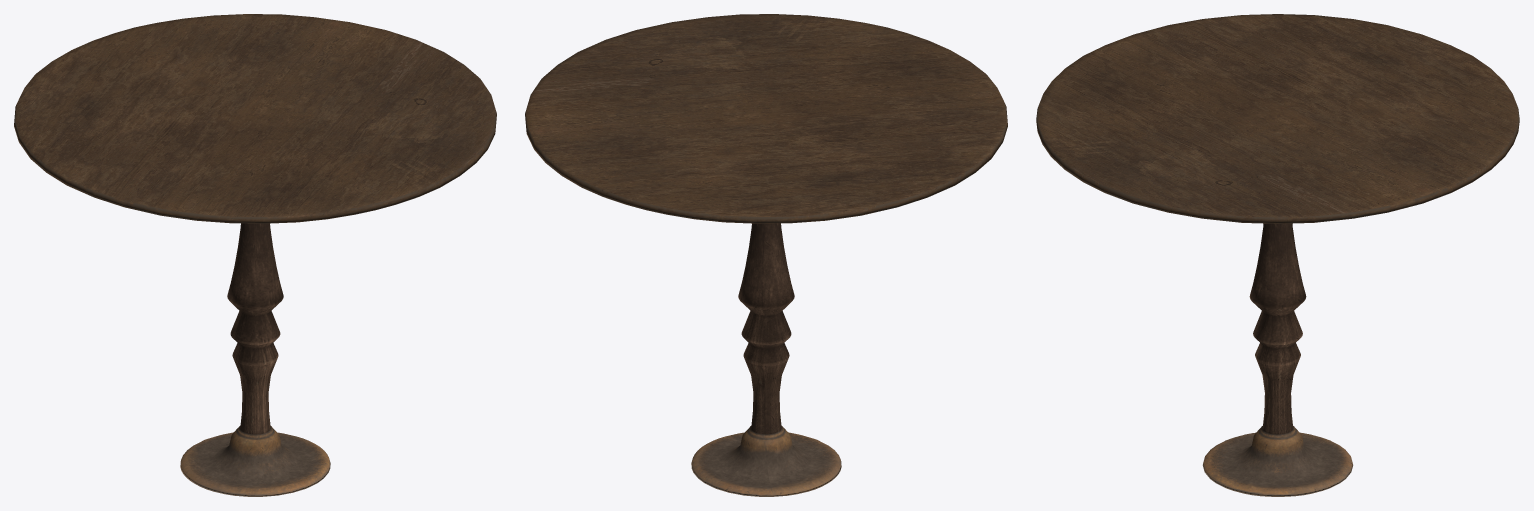
File: round_table.glb
3 views of the same model, side by side, from view 1: azimuth 30°, elevation 25°; view 2: azimuth 150°, elevation 25°; view 3: azimuth 270°, elevation 25° (orthographic).
Parts seen in each view (by area): view 1: Object_2; view 2: Object_2; view 3: Object_2.
Part boxes in pixels (x1,y1,x2,y2): Object_2: (14,14,496,496); Object_2: (525,14,1007,496); Object_2: (1036,14,1519,496).
Size of the model in its own units: 1.22 by 0.9737 by 1.22.
1 material, 1 textured.
